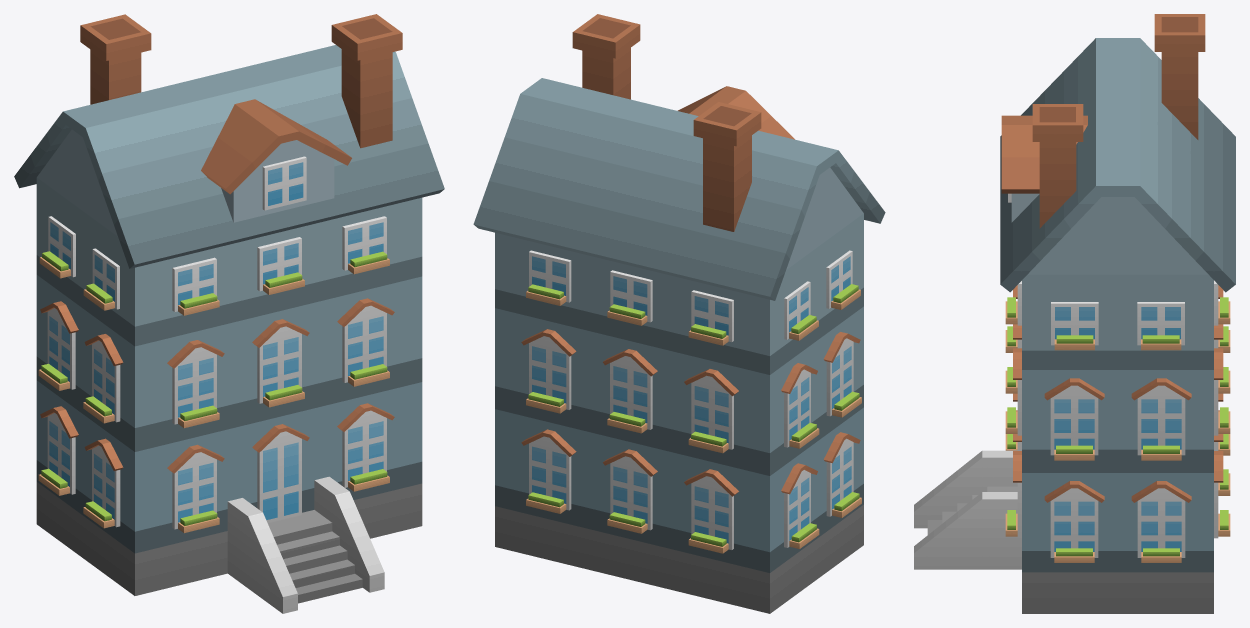
File: village_house_4.glb
The picture shows the model from 3 angles, left to right: view 1: azimuth 30°, elevation 25°; view 2: azimuth 150°, elevation 25°; view 3: azimuth 270°, elevation 25°; orthographic projection. The views are drawn at different scales.
Visible parts, largest first — view 1: village_house_4; view 2: village_house_4; view 3: village_house_4.
Part boxes in pixels (x1,y1,x2,y2): village_house_4: (14,14,444,613); village_house_4: (473,14,885,613); village_house_4: (914,14,1235,613).
Size of the model in its own units: 3.76 by 5.6 by 3.39.
1 material, 1 textured.
